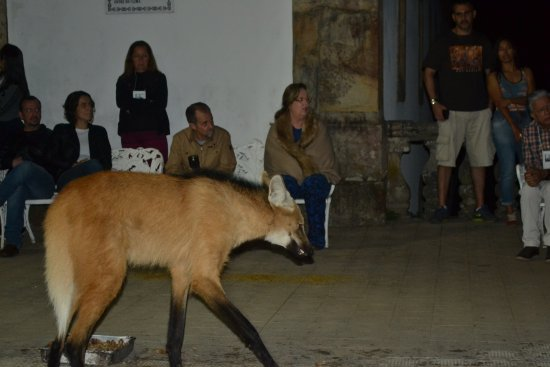LoboGuara: (46, 164, 317, 365)
